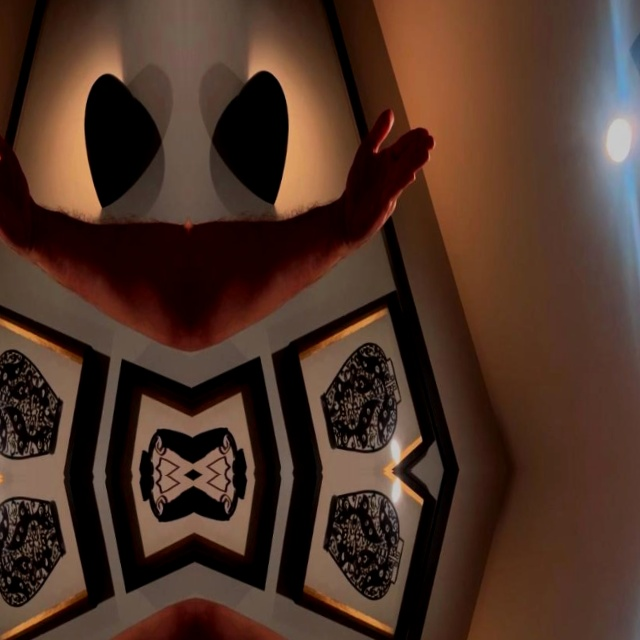Paper: (0, 107, 32, 258)
